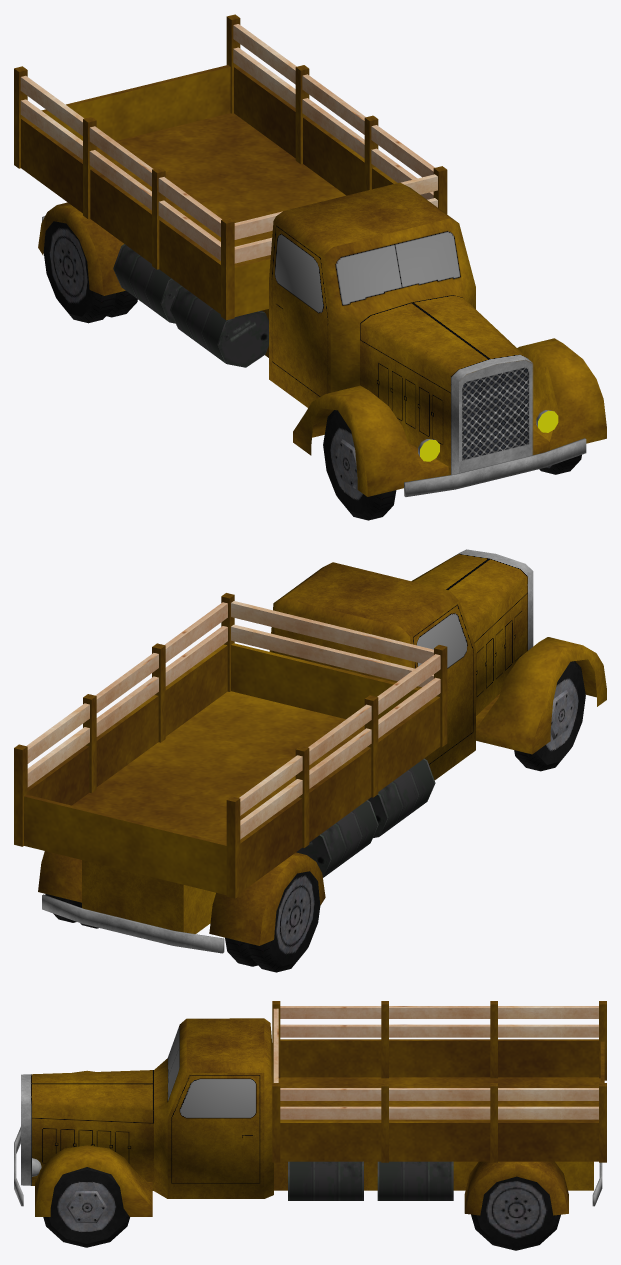
File: esrt69truck.dae
3 renders of one model, top to bottom at view 1: azimuth 30°, elevation 25°; view 2: azimuth 150°, elevation 25°; view 3: azimuth 270°, elevation 25°, orthographic. The views are drawn at different scales.
Visible parts, largest first — view 1: base, barrels, wheels2, wheels1; view 2: base, barrels, wheels2, wheels1; view 3: base, barrels, wheels1, wheels2.
Boxes of the visible parts, x1,y1,x2,y2 form: base: (14, 14, 606, 496); barrels: (113, 244, 268, 367); wheels2: (43, 221, 137, 323); wheels1: (323, 410, 581, 520); base: (14, 549, 606, 953); barrels: (296, 758, 435, 877); wheels2: (45, 871, 320, 972); wheels1: (514, 661, 585, 771); base: (14, 1001, 606, 1216); barrels: (288, 1161, 453, 1200); wheels1: (43, 1167, 129, 1247); wheels2: (471, 1176, 560, 1250).
Bounding box in the file's own units: 18.01 × 49 × 15.32.
